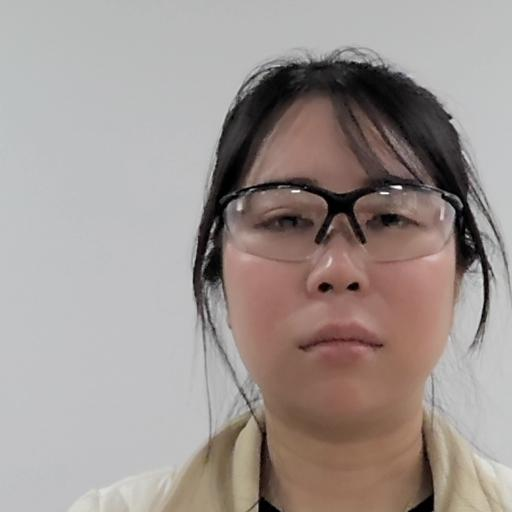glasses: (195, 63, 499, 417)
